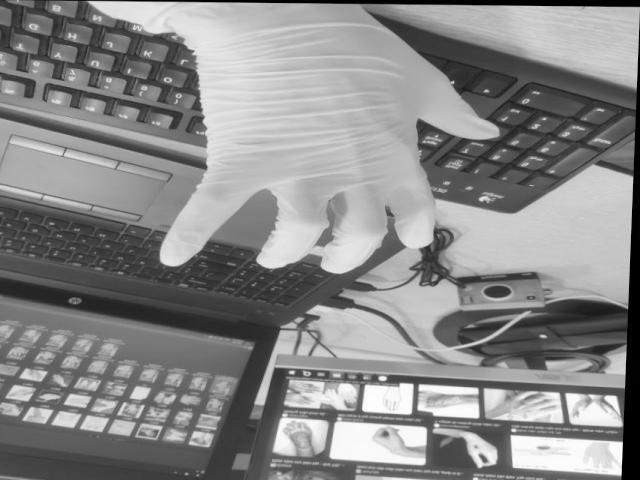gloved: (158, 15, 500, 275)
